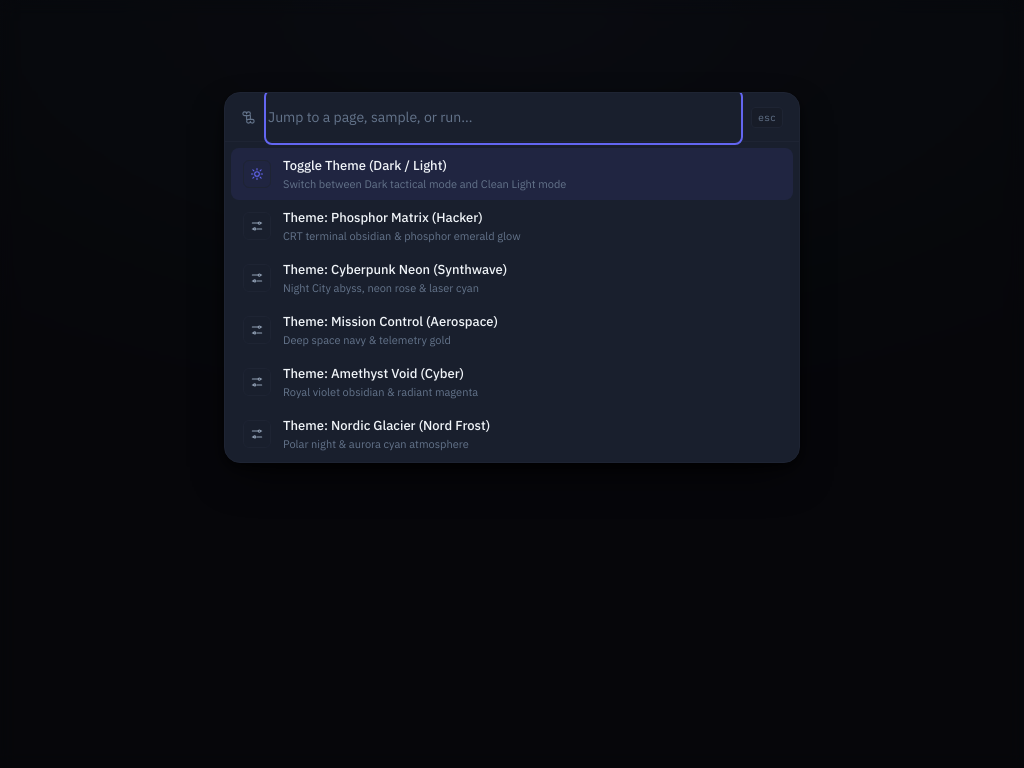
Test: CommandPalette reset action › surfaces the reset entry when typing 'reset'
Type "reset" into the field named "Search" at (504, 117), box [268, 93, 739, 141]
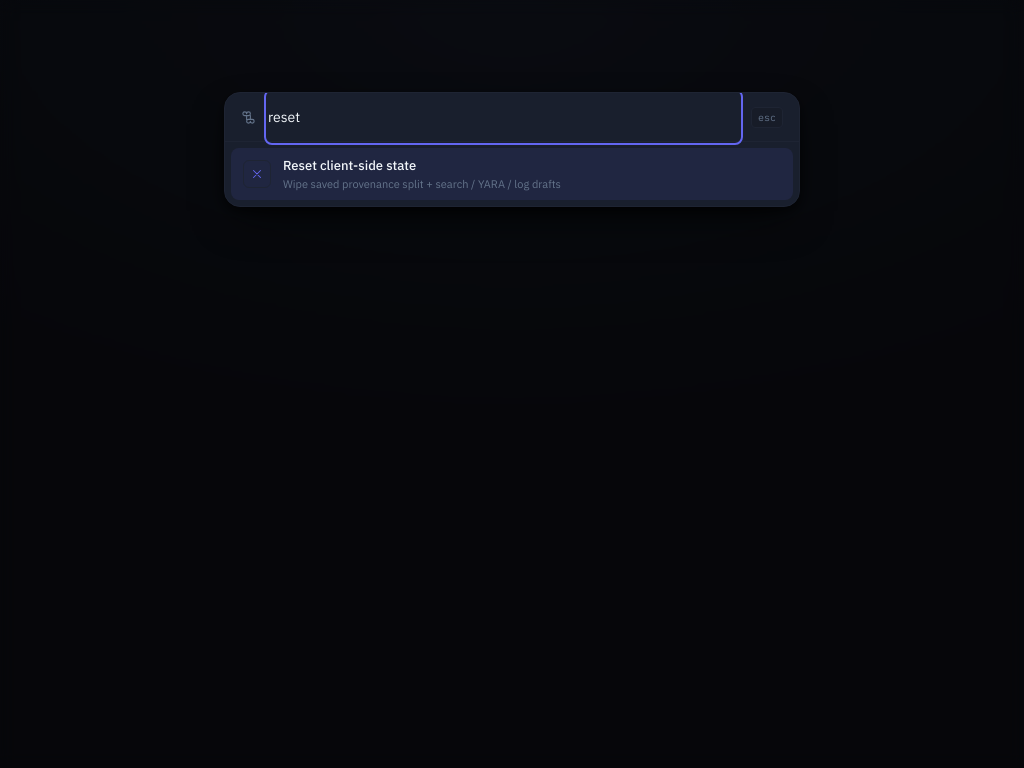
Result: the text "Reset client-side state" is shown at [283, 157, 416, 174]
Result: the text "Wipe saved provenance split + search / YARA / log drafts" is shown at [283, 177, 561, 191]
